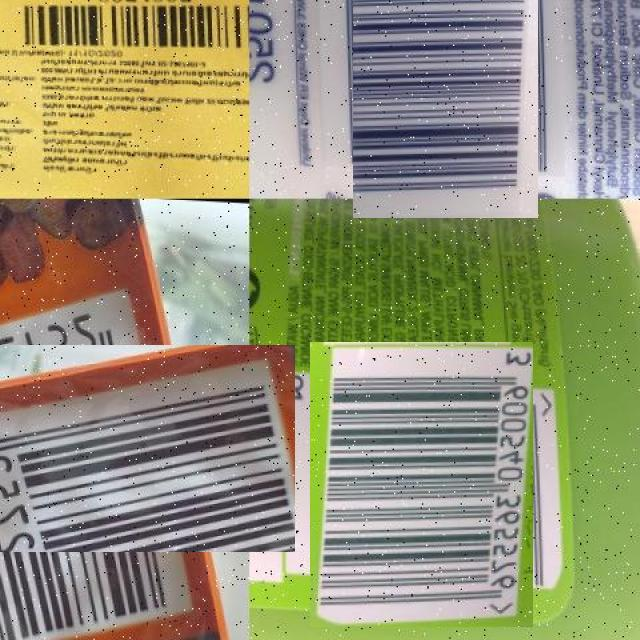Barcode: (0, 301, 251, 596), (295, 357, 549, 612), (336, 0, 554, 202), (11, 0, 249, 63)
